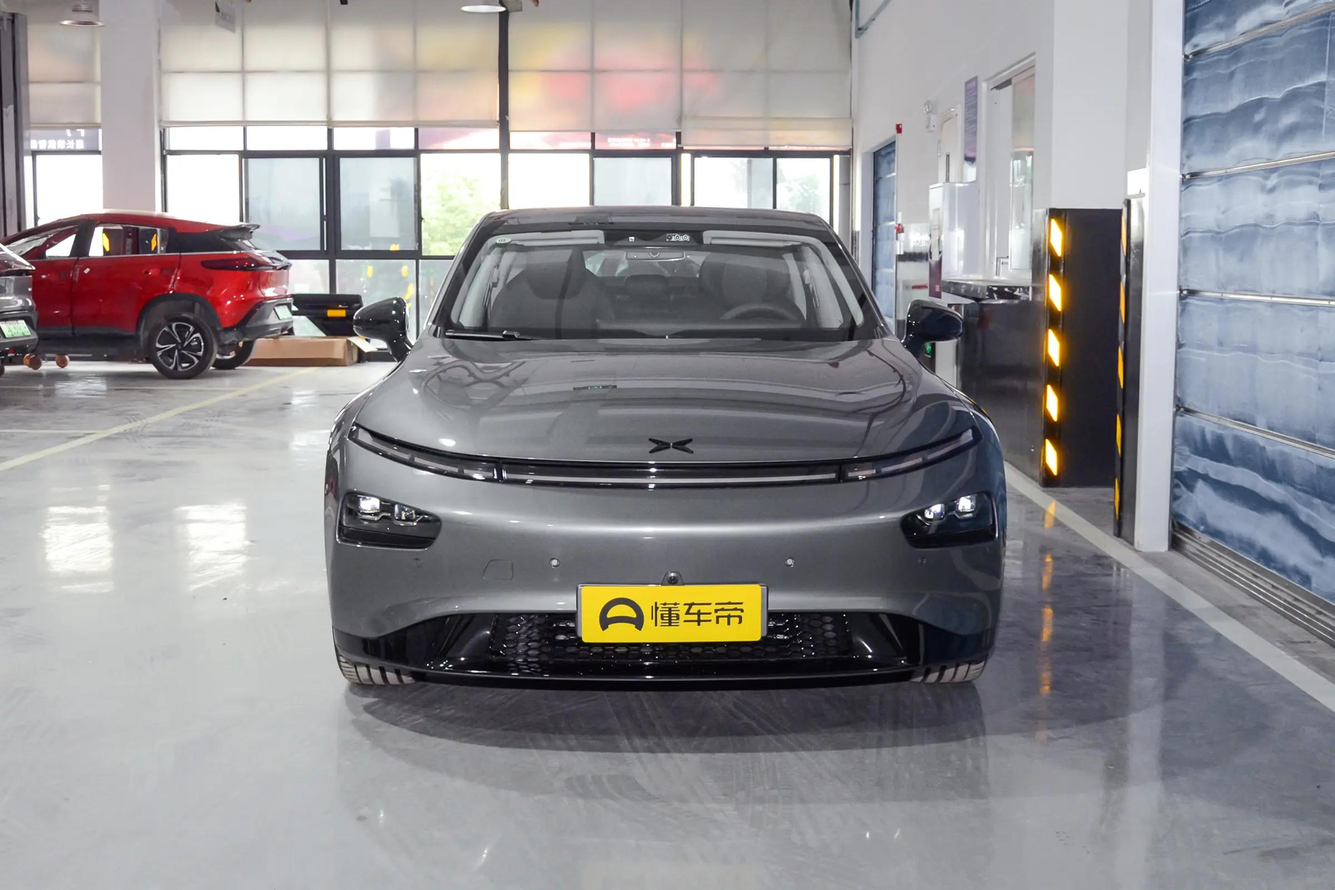XPeng Motors: (648, 438, 694, 454)
